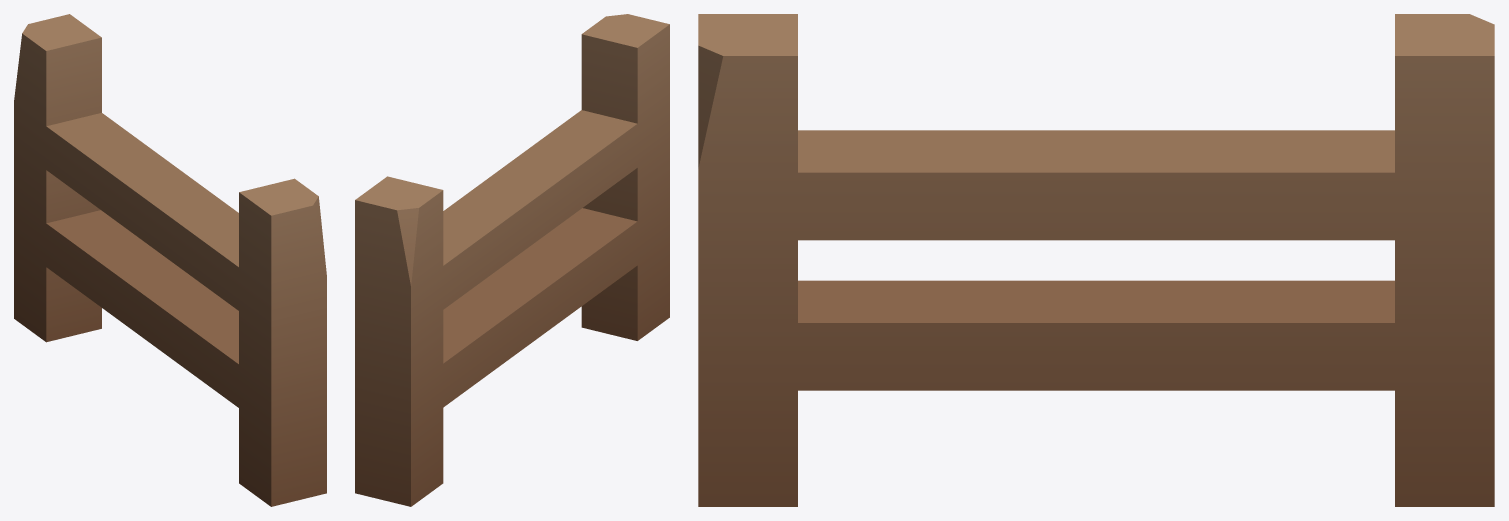
The model's file is fence_chipped.fbx.
3 renders of one model, left to right at view 1: azimuth 30°, elevation 25°; view 2: azimuth 150°, elevation 25°; view 3: azimuth 270°, elevation 25°, orthographic. The views are drawn at different scales.
Parts seen in each view (by area): view 1: fenceChipped; view 2: fenceChipped; view 3: fenceChipped.
Boxes of the visible parts, box(x1,y1,x2,y2) form: fenceChipped: box(14, 14, 326, 506); fenceChipped: box(355, 14, 669, 506); fenceChipped: box(698, 14, 1494, 506).
Size of the model in its own units: 20 by 100 by 160.
